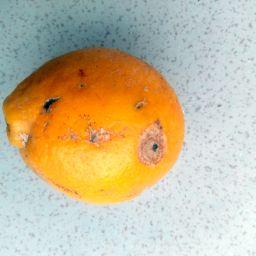Unripe: (5, 48, 185, 204)
